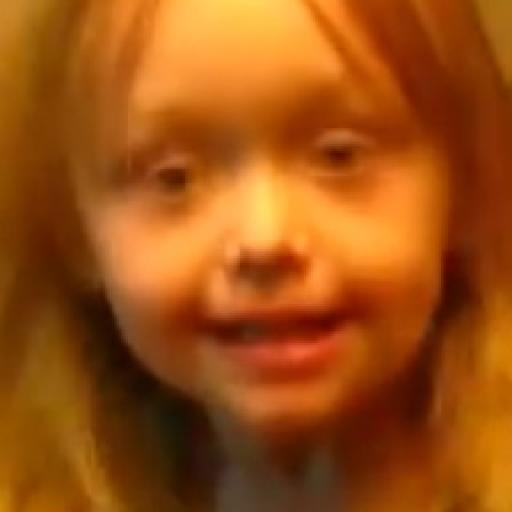Autism: (54, 26, 512, 457)
